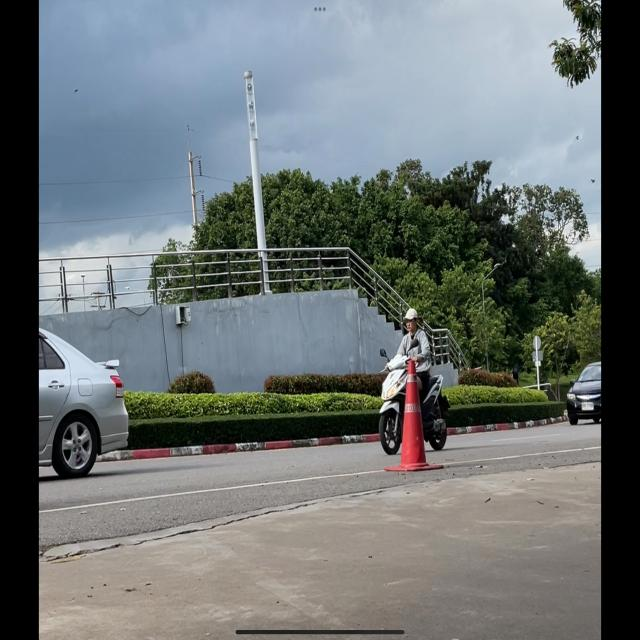seatbelt: (402, 307, 420, 332)
